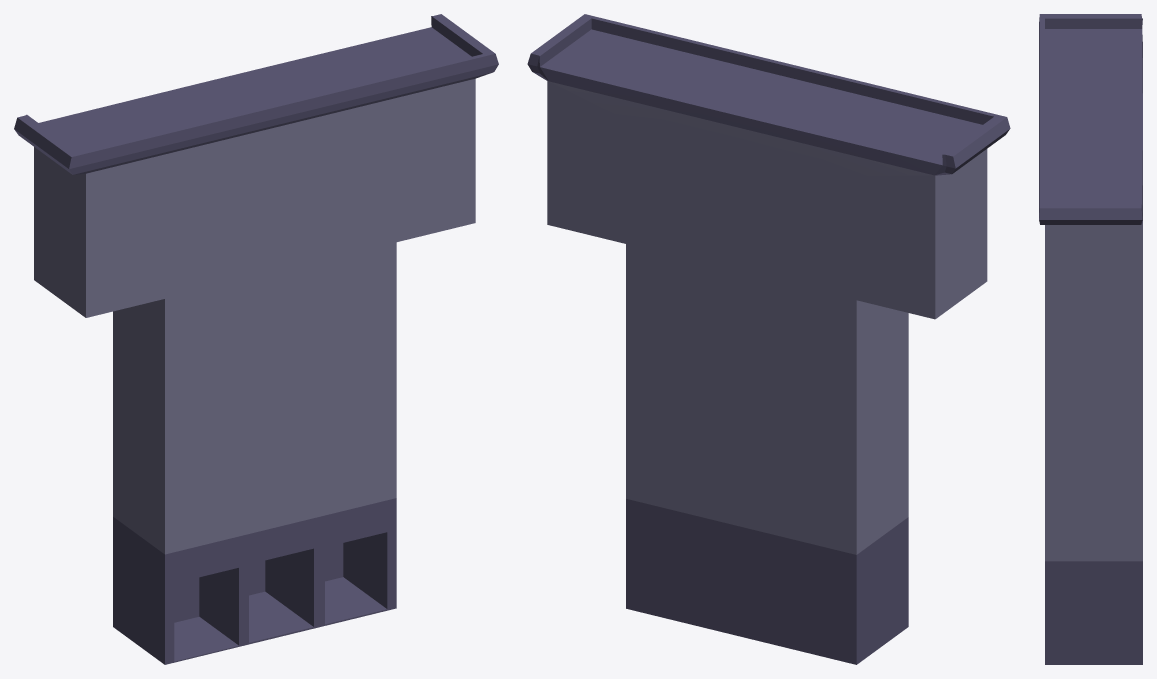
The model's file is building_T_5floors.fbx.
3 renders of one model, left to right at view 1: azimuth 30°, elevation 25°; view 2: azimuth 150°, elevation 25°; view 3: azimuth 270°, elevation 25°, orthographic. The views are drawn at different scales.
Parts seen in each view (by area): view 1: building_T_5floors; view 2: building_T_5floors; view 3: building_T_5floors.
Part boxes in pixels (<box>): building_T_5floors: <box>14,14,498,664</box>; building_T_5floors: <box>527,14,1010,664</box>; building_T_5floors: <box>1039,14,1142,664</box>.
Size of the model in its own units: 14.96 by 17.73 by 3.33.
